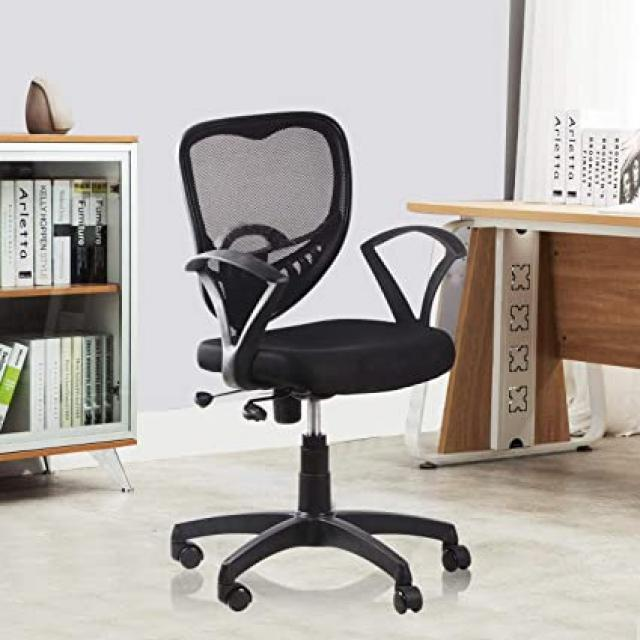chair: (148, 81, 482, 640)
